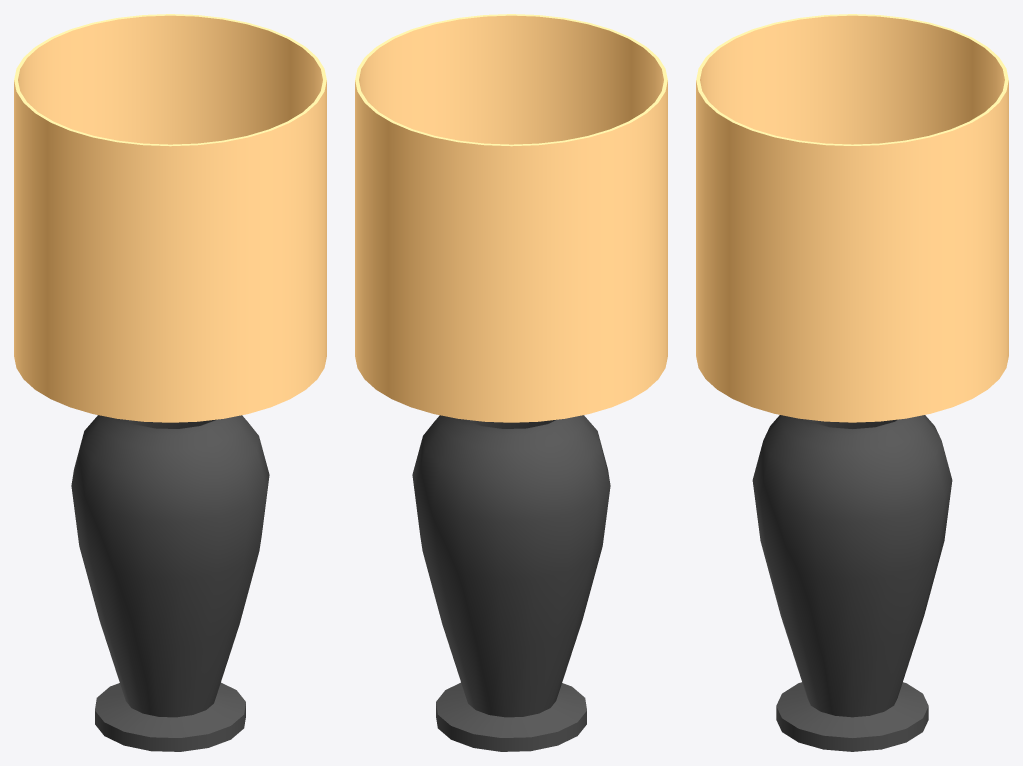
Rendered from Table_Lamp_TallBase_RoundShade.fbx.
3 views of the same model, side by side, from view 1: azimuth 30°, elevation 25°; view 2: azimuth 150°, elevation 25°; view 3: azimuth 270°, elevation 25° (orthographic).
Visible parts, largest first — view 1: Table_Lamp_TallBase_RoundShade; view 2: Table_Lamp_TallBase_RoundShade; view 3: Table_Lamp_TallBase_RoundShade.
Boxes of the visible parts, x1,y1,x2,y2 form: Table_Lamp_TallBase_RoundShade: (14,14,326,751); Table_Lamp_TallBase_RoundShade: (355,14,667,751); Table_Lamp_TallBase_RoundShade: (696,14,1008,751).
Size of the model in its own units: 30.75 by 69.41 by 30.75.
